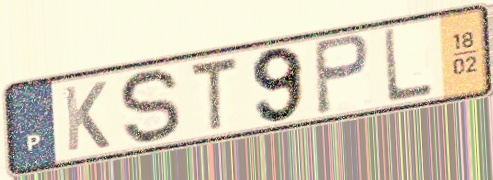9: (249, 45, 310, 125)
K: (60, 78, 113, 154)
L: (380, 25, 435, 107)
P: (310, 32, 373, 118)
S: (116, 66, 184, 149)
T: (187, 53, 241, 134)
